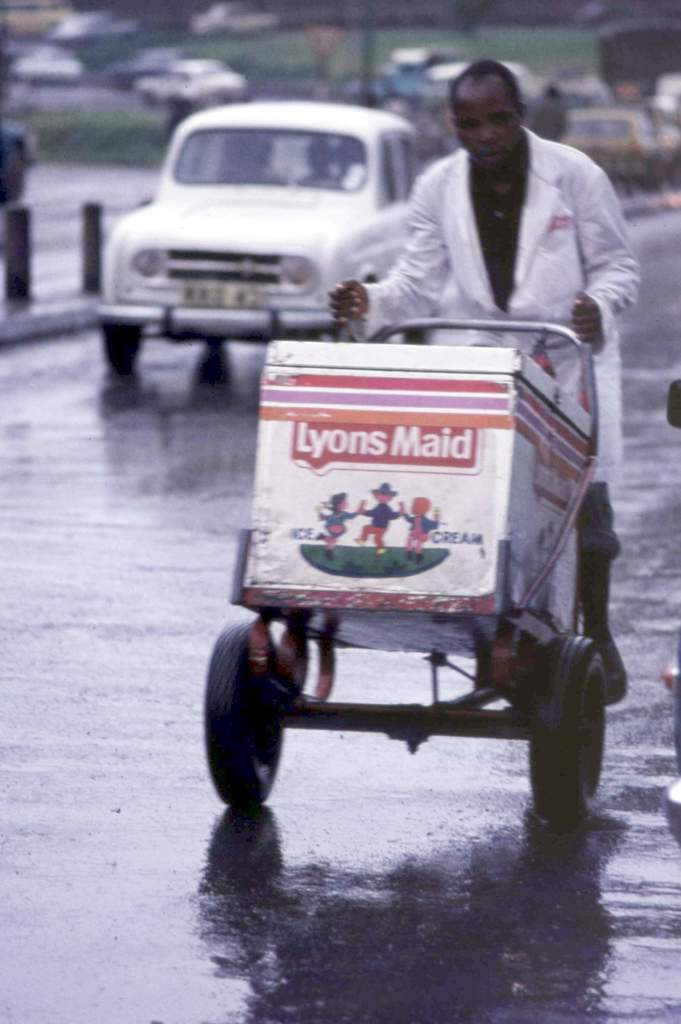Car: (93, 105, 420, 368)
